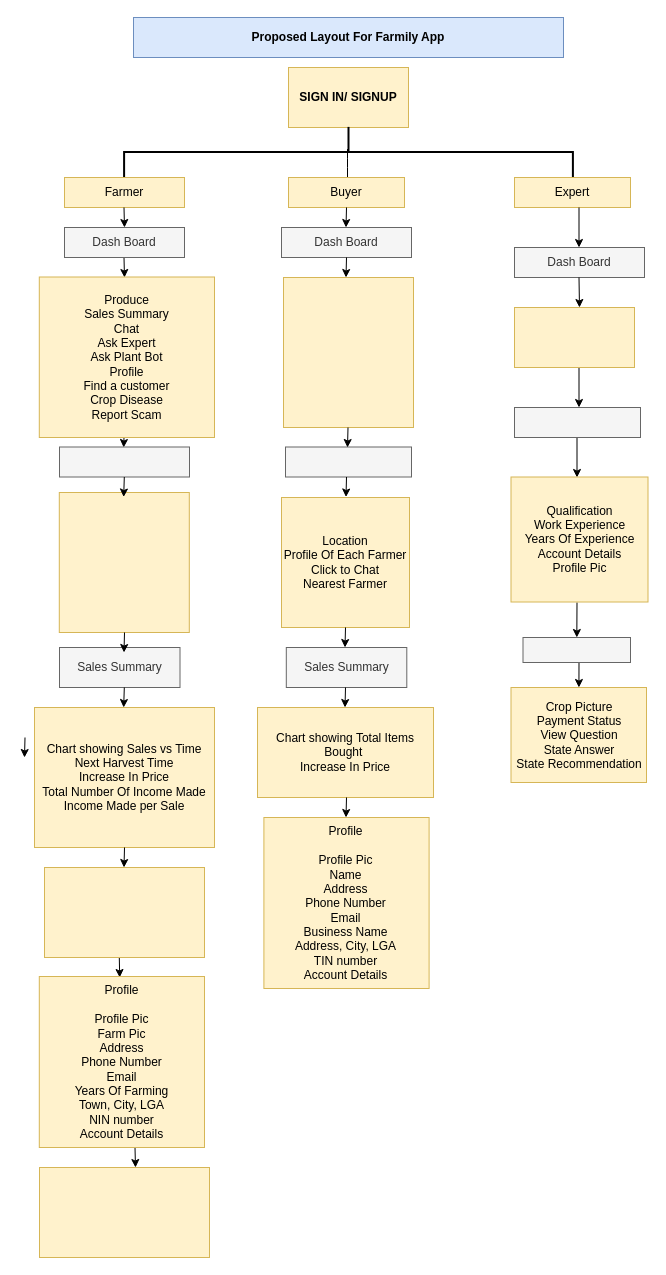
The diagram is 666 pixels wide and 1275 high, and some of its shapes have lost their labels. Each missing label, with the centre of its shape:
"Ask Bot Crop Picture Disease Name Reccomendation" goes at (124,1212).
"Ask Expert Upload Picture Questions Pay For Advice" goes at (124,912).
"Find A Farmer" goes at (348,461).
"Find a Farmer Chat Nearest Farmer Profile Rate Farmer Report Scam" goes at (348,352).
"Help A Farmer" goes at (576,649).
"Last Harvest Current Amount Of Produce Next Harvest Time" goes at (123,562).
"Produce" goes at (124,461).
"Profile" goes at (577,422).
"Profile Help A Farmer Report Scam" goes at (574,337).
